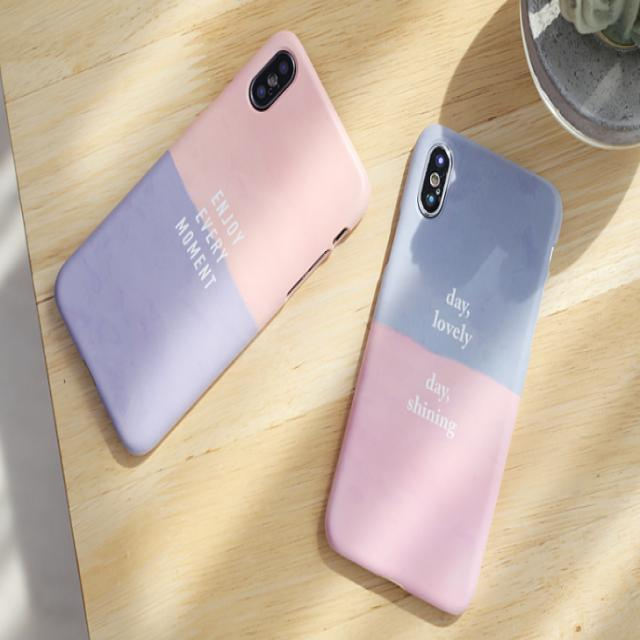phone: (54, 29, 368, 464), (322, 124, 565, 619)
